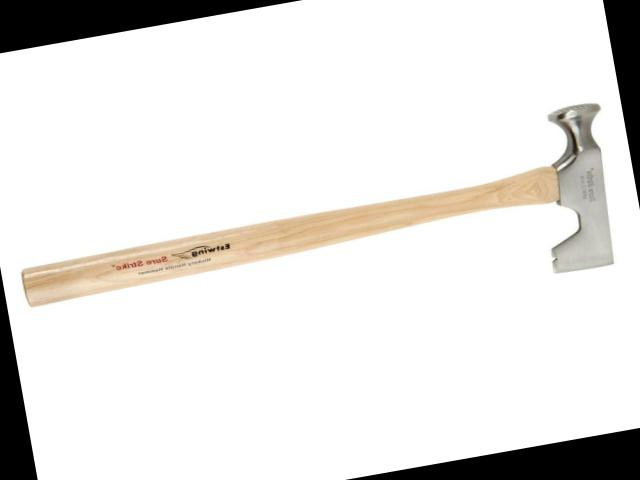hammer: (6, 97, 631, 367)
